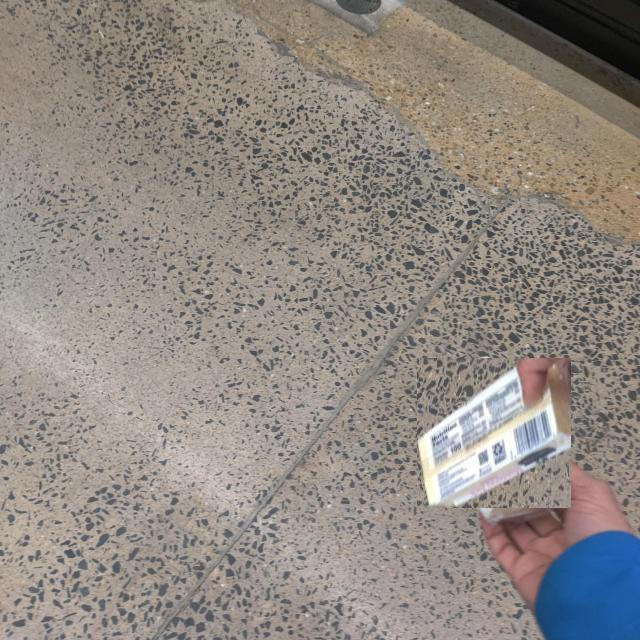Cheese: (418, 357, 571, 508)
